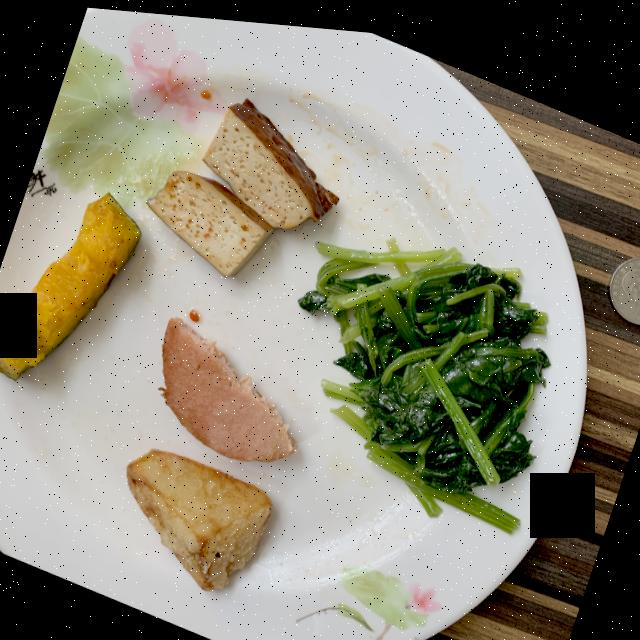Spam: (162, 314, 298, 458)
coin: (609, 246, 640, 313)
firm tofu: (147, 95, 339, 272)
fried potato: (126, 446, 272, 587)
mustard greens: (298, 236, 550, 523)
pumpkin: (0, 192, 141, 380)
